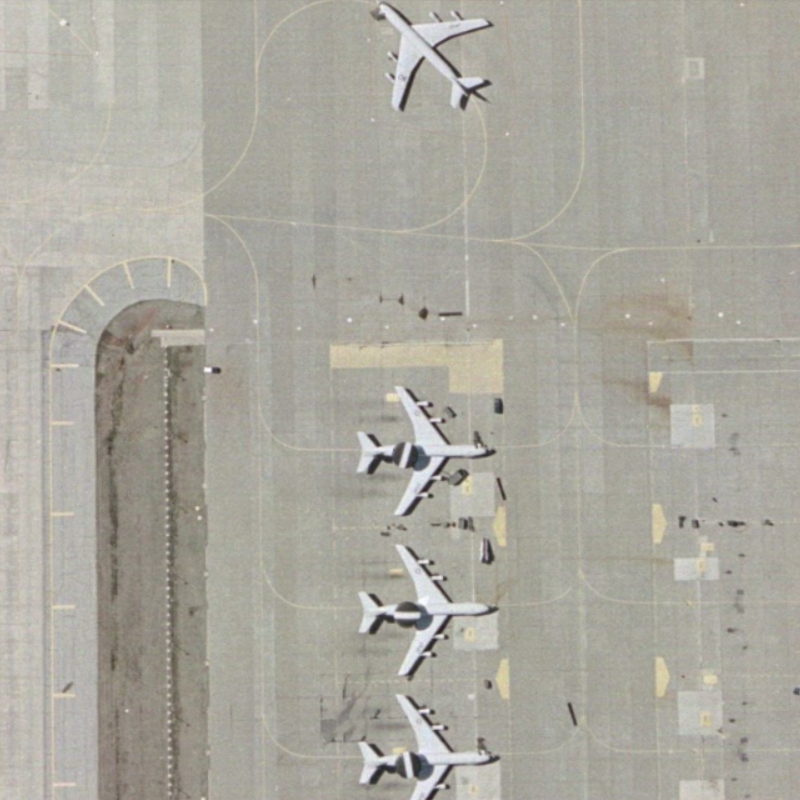A11: (360, 1, 501, 116)
A7: (349, 537, 499, 683), (350, 376, 497, 522), (350, 686, 503, 800)
